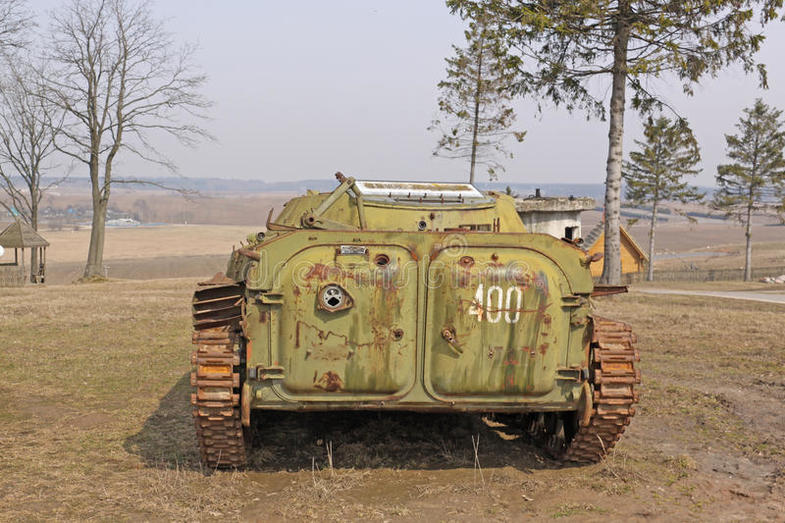bmp: (190, 194, 636, 465)
